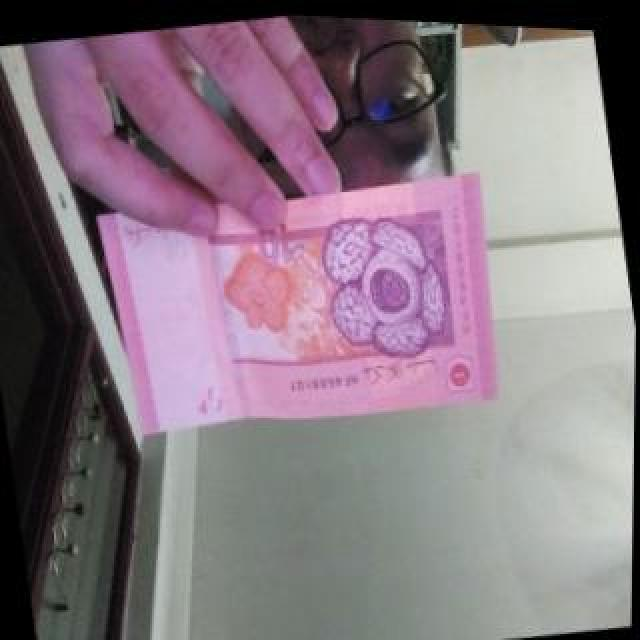10 Ringgit: (92, 148, 522, 467)
